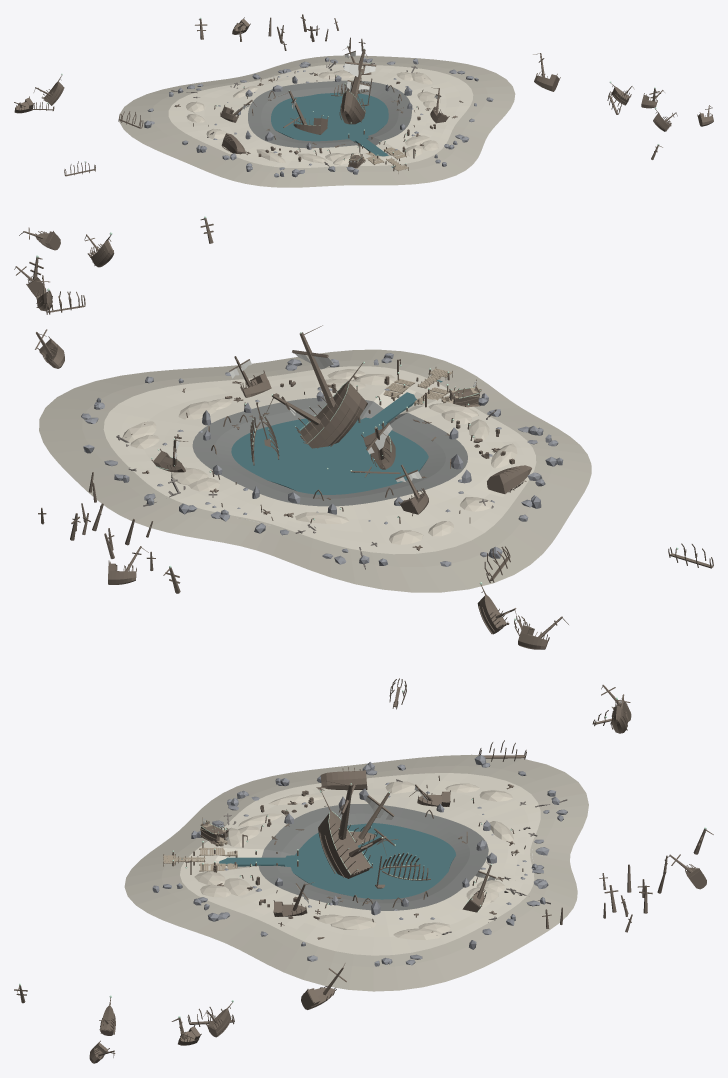
Rendered from island_wreck.glb.
3 renders of one model, top to bottom at view 1: azimuth 30°, elevation 25°; view 2: azimuth 150°, elevation 25°; view 3: azimuth 270°, elevation 25°, orthographic. The views are drawn at different scales.
Visible parts, largest first — view 1: Wreckwater_Base, Wreckwater_Bay, Wreckwater_Hulks, Wreckwater_SeaHulks, Wreckwater_Dunes, Wreckwater_Rocks, Wreckwater_Sails; view 2: Wreckwater_Base, Wreckwater_Bay, Wreckwater_Hulks, Wreckwater_SeaHulks, Wreckwater_Dunes, Wreckwater_Rocks, Wreckwater_Sails; view 3: Wreckwater_Base, Wreckwater_Bay, Wreckwater_Hulks, Wreckwater_Dunes, Wreckwater_SeaHulks, Wreckwater_Rocks.
Part boxes in pixels (bbox=[...]): Wreckwater_Base: bbox=[119, 55, 515, 187]; Wreckwater_Bay: bbox=[271, 92, 394, 167]; Wreckwater_Hulks: bbox=[174, 46, 463, 171]; Wreckwater_SeaHulks: bbox=[14, 14, 713, 176]; Wreckwater_Dunes: bbox=[186, 70, 440, 165]; Wreckwater_Rocks: bbox=[144, 57, 493, 177]; Wreckwater_Sails: bbox=[242, 51, 440, 110]; Wreckwater_Base: bbox=[39, 349, 591, 592]; Wreckwater_Bay: bbox=[231, 380, 442, 494]; Wreckwater_Hulks: bbox=[131, 325, 531, 550]; Wreckwater_SeaHulks: bbox=[14, 218, 713, 649]; Wreckwater_Dunes: bbox=[122, 369, 517, 544]; Wreckwater_Rocks: bbox=[81, 353, 563, 566]; Wreckwater_Sails: bbox=[174, 353, 421, 482]; Wreckwater_Base: bbox=[124, 754, 588, 991]; Wreckwater_Bay: bbox=[181, 823, 455, 899]; Wreckwater_Hulks: bbox=[172, 767, 525, 939]; Wreckwater_Dunes: bbox=[194, 781, 513, 939]; Wreckwater_SeaHulks: bbox=[14, 678, 713, 1063]; Wreckwater_Rocks: bbox=[152, 755, 567, 966].
Bounding box in the file's own units: 989 × 135 × 767.
